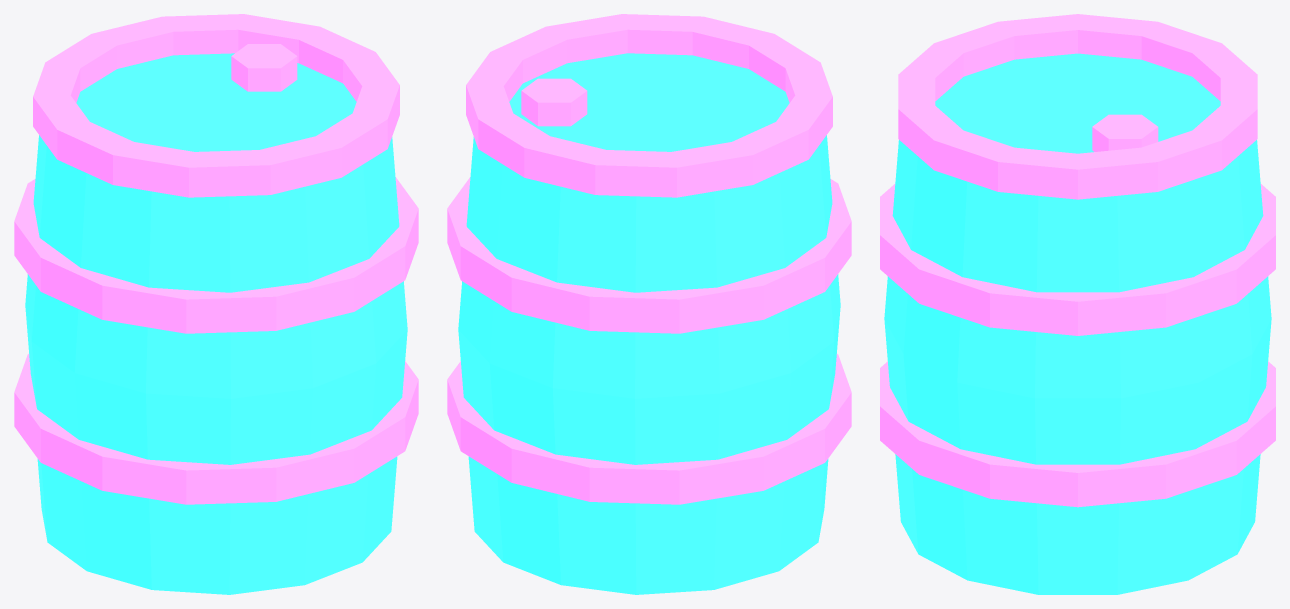
The model's file is item_barrel_neon.fbx.
3 renders of one model, left to right at view 1: azimuth 30°, elevation 25°; view 2: azimuth 150°, elevation 25°; view 3: azimuth 270°, elevation 25°, orthographic.
Parts seen in each view (by area): view 1: item_barrel_neon; view 2: item_barrel_neon; view 3: item_barrel_neon.
Part boxes in pixels (x1,y1,x2,y2): item_barrel_neon: (14,14,418,594); item_barrel_neon: (447,14,851,594); item_barrel_neon: (880,14,1275,594).
Size of the model in its own units: 1.72 by 2.01 by 1.68.
